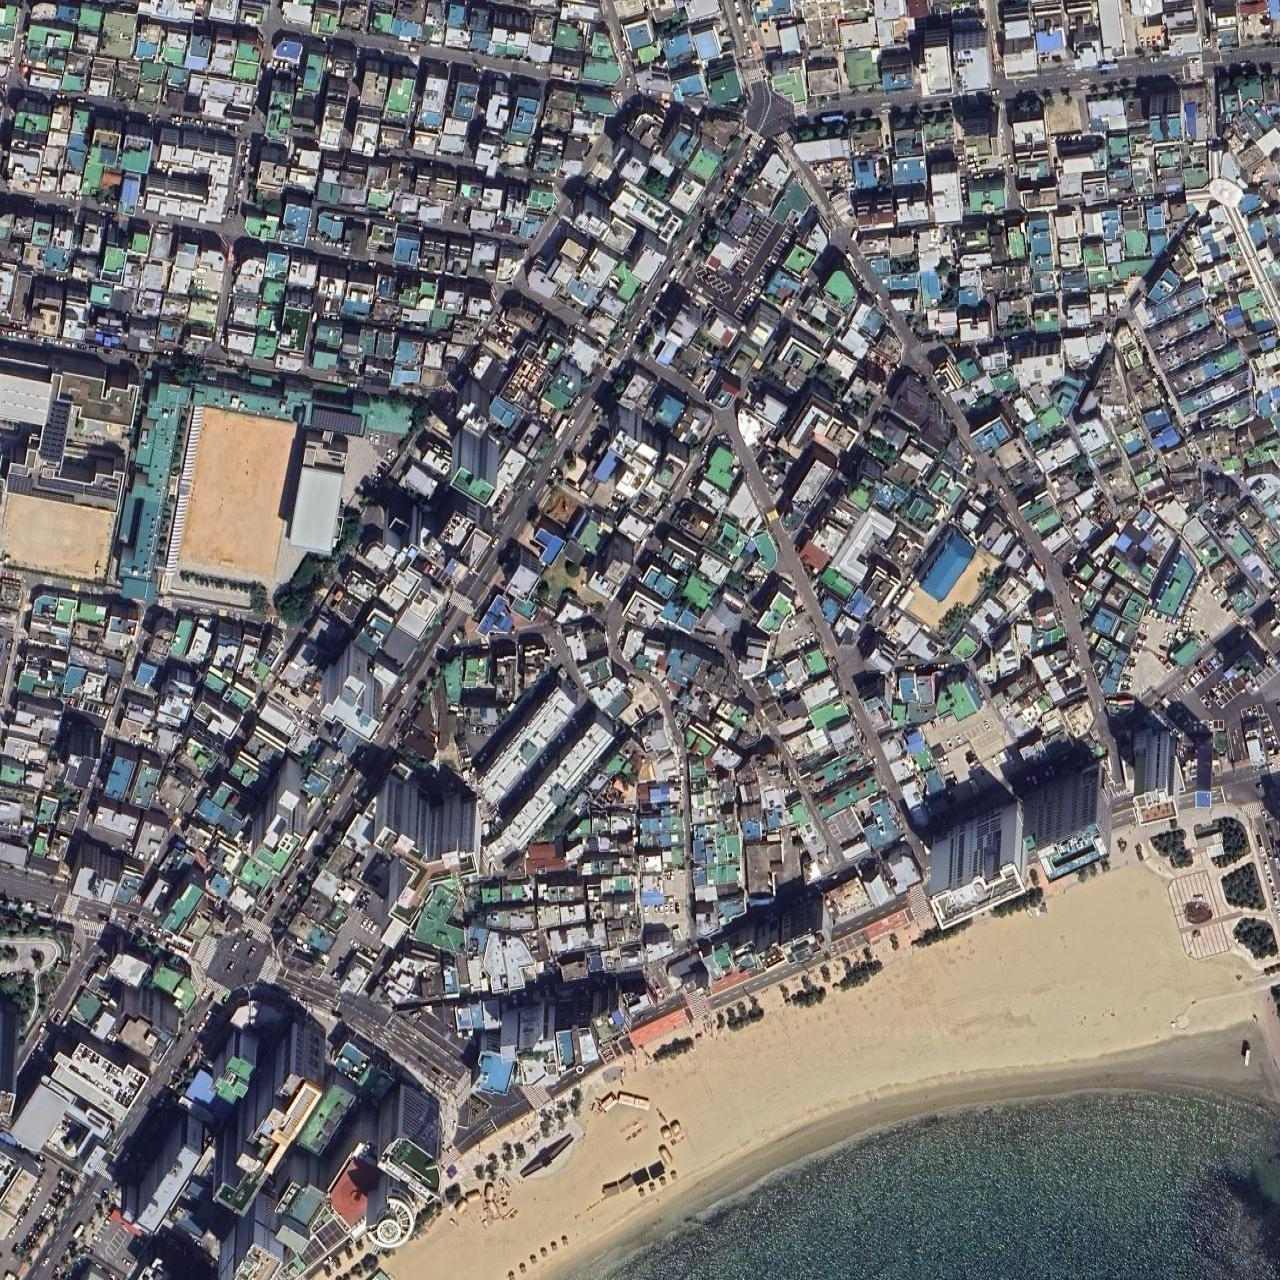house: (29, 130, 1280, 1280), (0, 363, 515, 1280), (0, 0, 748, 546), (774, 59, 1280, 543), (740, 4, 1280, 137)
water: (600, 1080, 1279, 1280)
